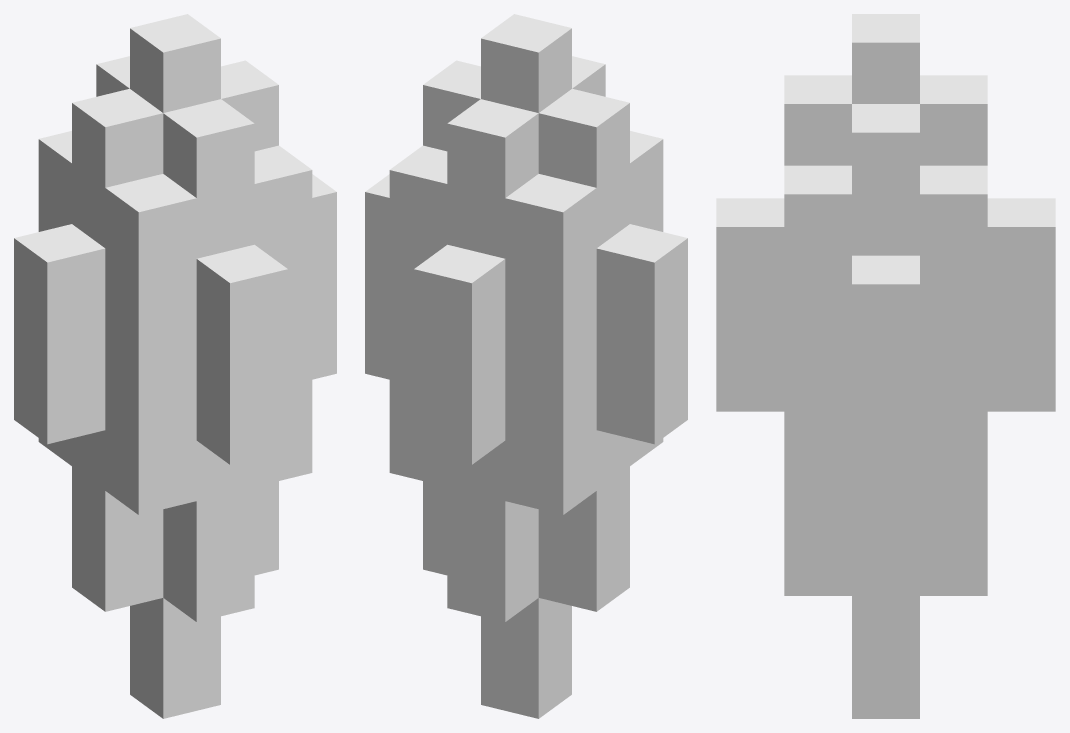
Rendered from cursor4.obj.
3 renders of one model, left to right at view 1: azimuth 30°, elevation 25°; view 2: azimuth 150°, elevation 25°; view 3: azimuth 270°, elevation 25°, orthographic.
Bounding box in the file's own units: 0.5 × 1.1 × 0.5.
1 material, 1 textured.
